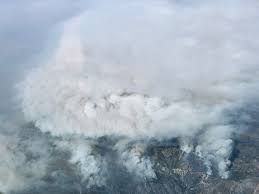smoke: (1, 1, 259, 137)
